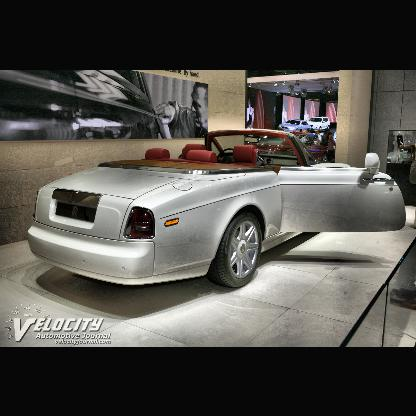Rolls-Royce Phantom Drophead Coupe Convertible 2012: (25, 127, 409, 292)
